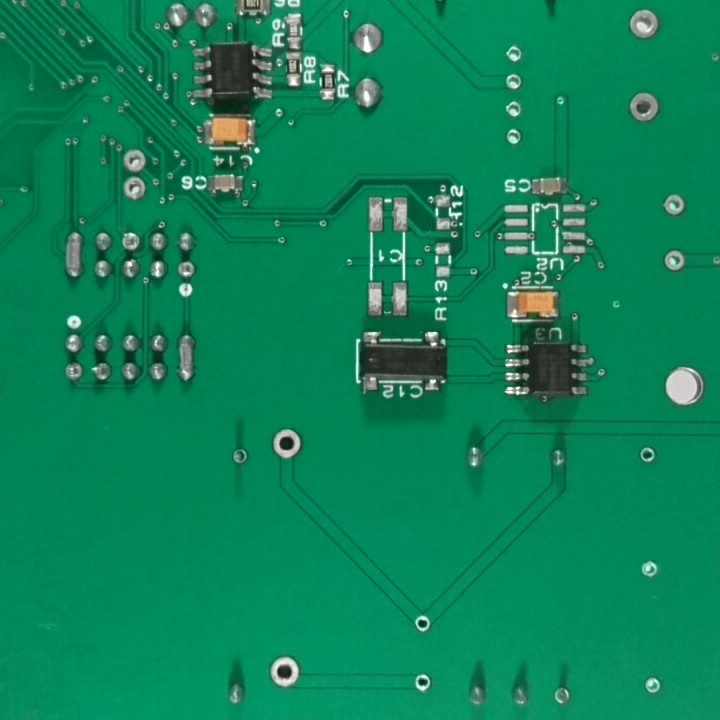F: (264, 653, 307, 694), (268, 425, 307, 463), (625, 88, 662, 126), (627, 6, 661, 46), (120, 173, 150, 204), (121, 144, 150, 175), (550, 682, 578, 711), (659, 191, 689, 218), (661, 245, 687, 275), (410, 614, 436, 637), (501, 70, 524, 95), (642, 673, 664, 699), (410, 673, 436, 695), (63, 361, 87, 384), (119, 231, 141, 255), (227, 446, 251, 468), (176, 258, 198, 281), (502, 98, 523, 121), (640, 560, 661, 583), (504, 43, 524, 64), (503, 128, 523, 149), (639, 447, 657, 466)
P: (59, 227, 84, 284), (175, 329, 198, 386)
